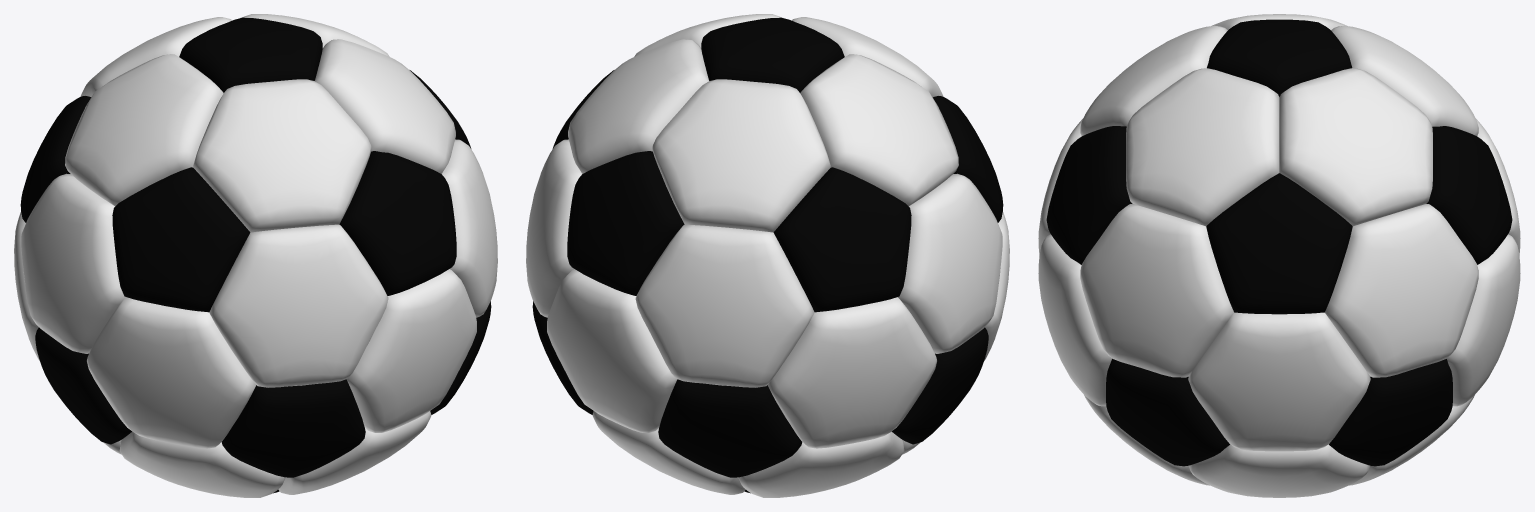
Rendered from football2.glb.
3 views of the same model, side by side, from view 1: azimuth 30°, elevation 25°; view 2: azimuth 150°, elevation 25°; view 3: azimuth 270°, elevation 25° (orthographic).
Visible parts, largest first — view 1: Icosphere.001; view 2: Icosphere.001; view 3: Icosphere.001.
Boxes of the visible parts, box(x1,y1,x2,y2) form: Icosphere.001: box(14, 14, 497, 497); Icosphere.001: box(526, 14, 1009, 497); Icosphere.001: box(1038, 14, 1520, 497).
Bounding box in the file's own units: 1.87 × 1.88 × 1.87.
1 material, 1 textured.
